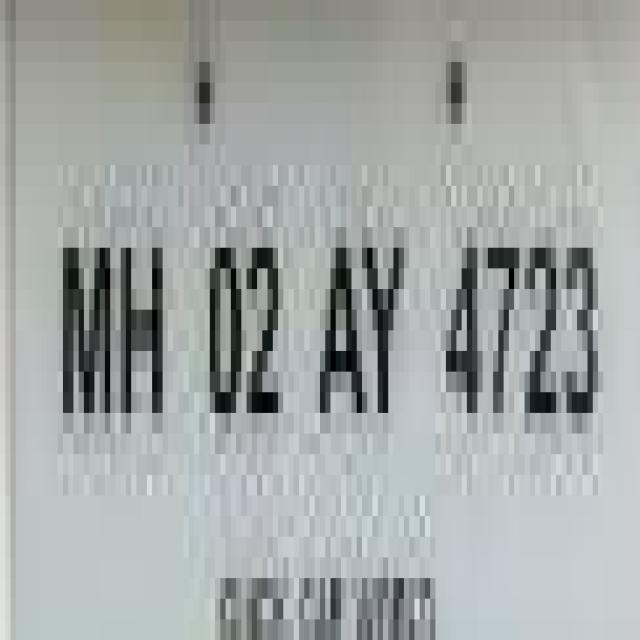license_plate: (47, 21, 624, 619)
